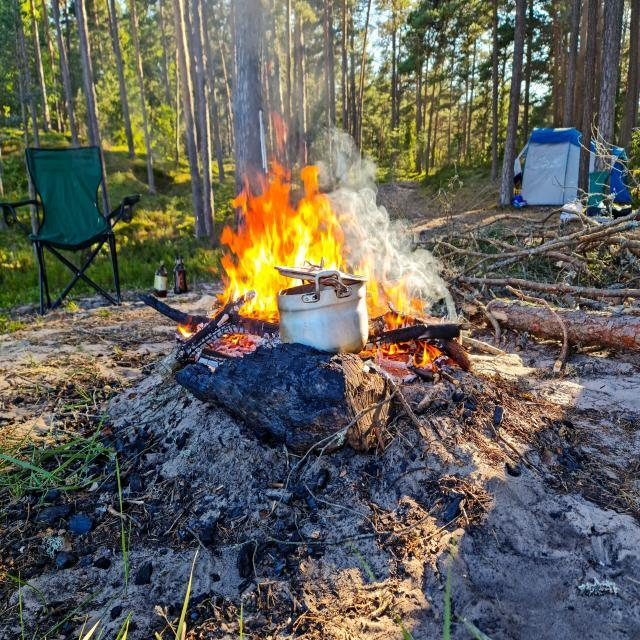Fire: (208, 116, 340, 358), (359, 270, 431, 368), (172, 312, 192, 340)
Smoke: (340, 110, 443, 272)
